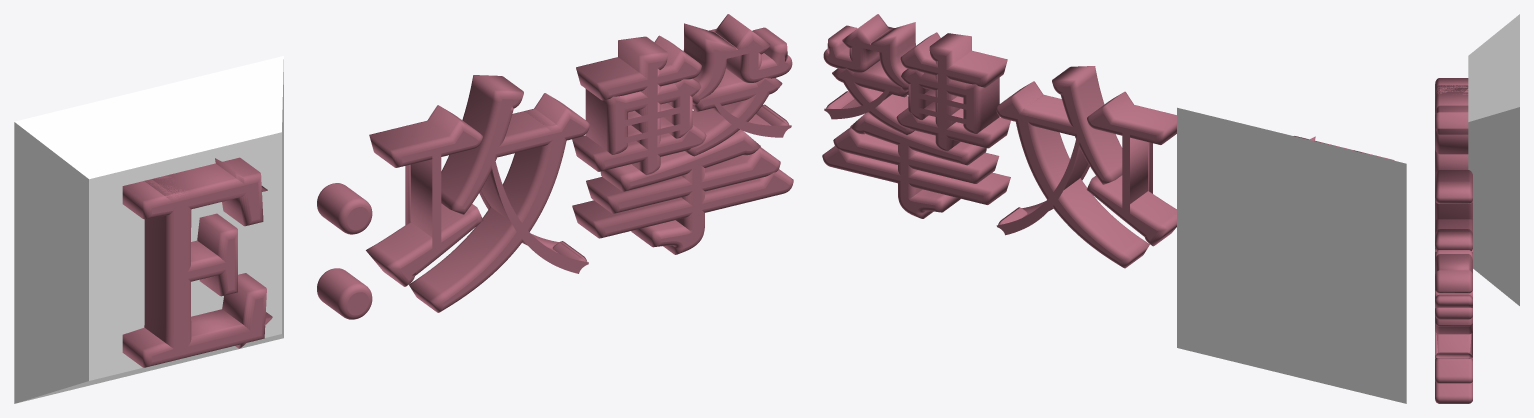
Rendered from AttackExplanation.obj.
The picture shows the model from 3 angles, left to right: view 1: azimuth 30°, elevation 25°; view 2: azimuth 150°, elevation 25°; view 3: azimuth 270°, elevation 25°; orthographic projection. The views are drawn at different scales.
Visible parts, largest first — view 1: テキスト.016; view 2: テキスト.016; view 3: テキスト.016.
Boxes of the visible parts, x1,y1,x2,y2 form: テキスト.016: (14, 14, 793, 403); テキスト.016: (822, 14, 1406, 403); テキスト.016: (1435, 14, 1519, 403).
Size of the model in its own units: 1.24 by 0.4624 by 0.1782.
